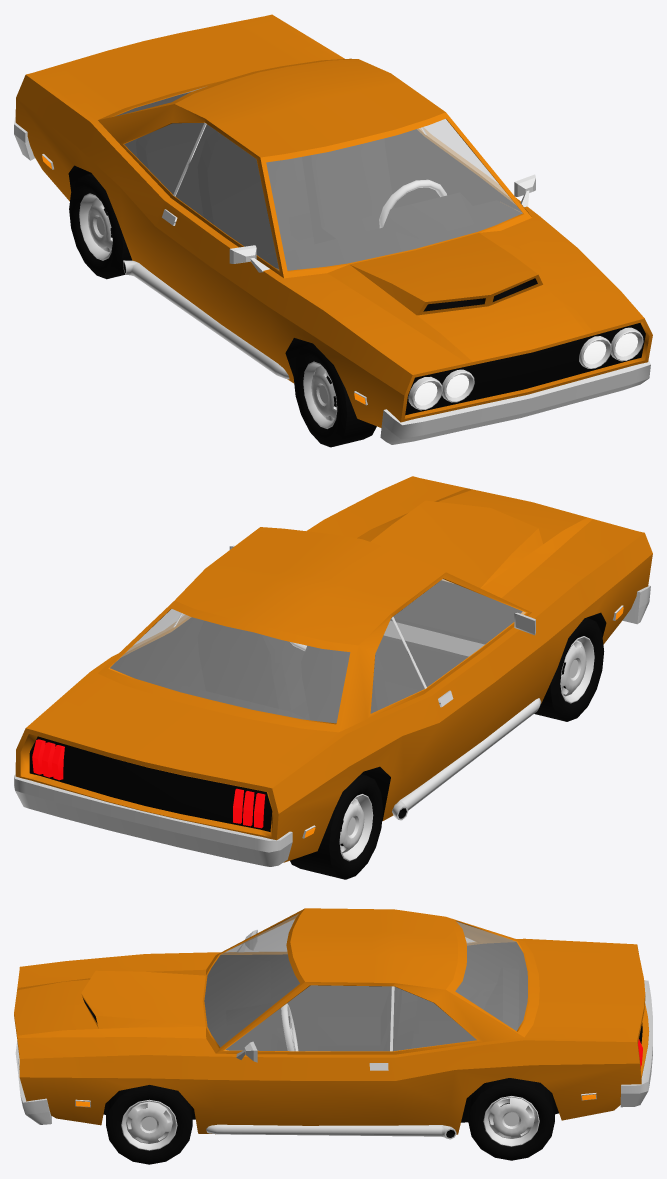
The model's file is car_body.glb.
The picture shows the model from 3 angles, top to bottom: view 1: azimuth 30°, elevation 25°; view 2: azimuth 150°, elevation 25°; view 3: azimuth 270°, elevation 25°; orthographic projection. The views are drawn at different scales.
Parts seen in each view (by area): view 1: Cube, Cube.001, Cube.005; view 2: Cube, Cube.005, Cube.001; view 3: Cube, Cube.002, Cube.004.
Part boxes in pixels (box(x1,y1,x2,y2)): Cube: box(14, 14, 652, 444); Cube.001: box(293, 343, 376, 447); Cube.005: box(69, 173, 132, 279); Cube: box(14, 476, 652, 866); Cube.005: box(290, 774, 383, 879); Cube.001: box(534, 617, 604, 721); Cube: box(14, 908, 652, 1139); Cube.002: box(468, 1078, 554, 1160); Cube.004: box(106, 1085, 192, 1164).
Bounding box in the file's own units: 5.46 × 3.6 × 12.16.
